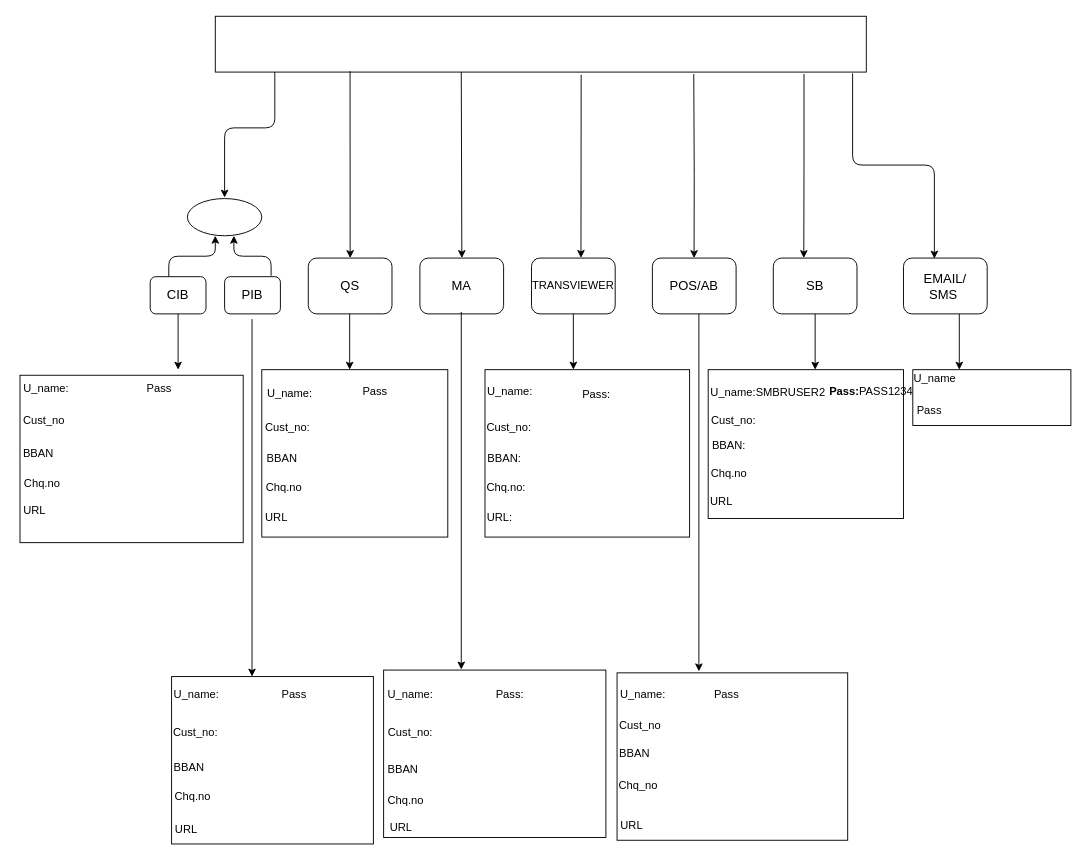
Some shapes in this 1087 by 860 pixel diagram are drawn without their labels. The shapes that lost their labels are listed below. From the top down, each one's centre as x and y in pixels, then its label:
(x=540, y=43): Omni Channels
(x=224, y=217): IB
